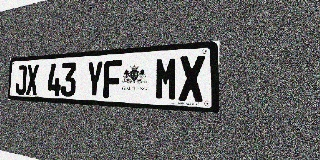3: (61, 62, 76, 97)
4: (47, 63, 61, 96)
F: (103, 60, 122, 99)
J: (15, 65, 27, 95)
M: (155, 56, 178, 101)
X: (179, 55, 205, 102), (26, 64, 39, 95)
Y: (86, 61, 103, 98)
